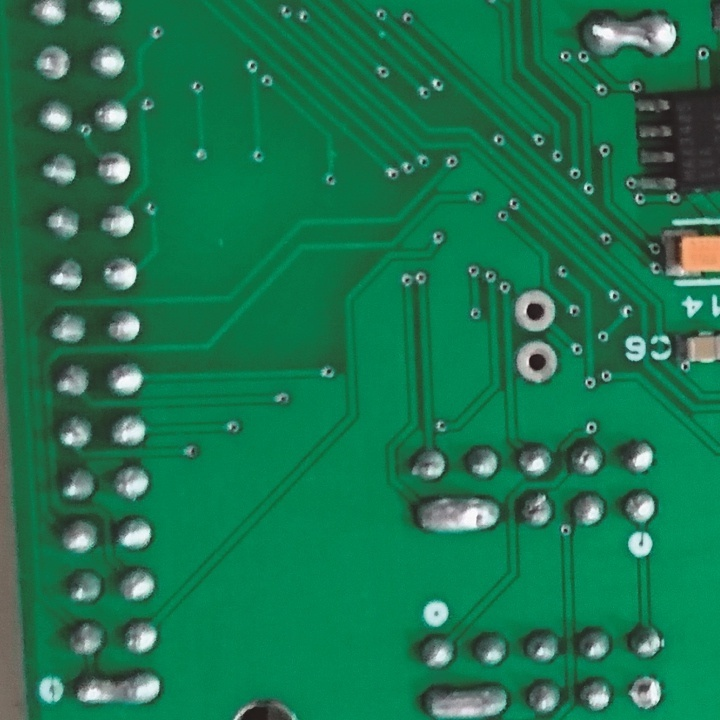F: (510, 287, 561, 337), (513, 335, 561, 388), (30, 44, 74, 84), (96, 151, 138, 192), (101, 256, 141, 295), (627, 671, 665, 712)
P: (576, 7, 682, 66), (66, 668, 166, 711), (406, 493, 506, 534), (419, 680, 513, 720)
